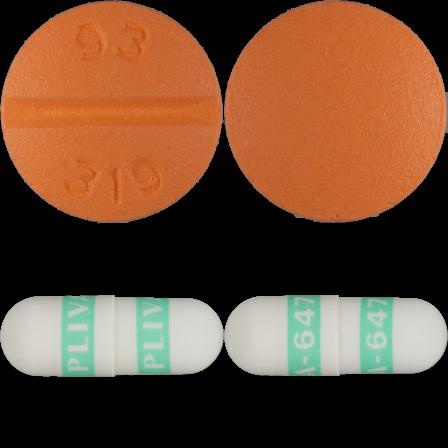33261-183: (0, 0, 224, 224)
